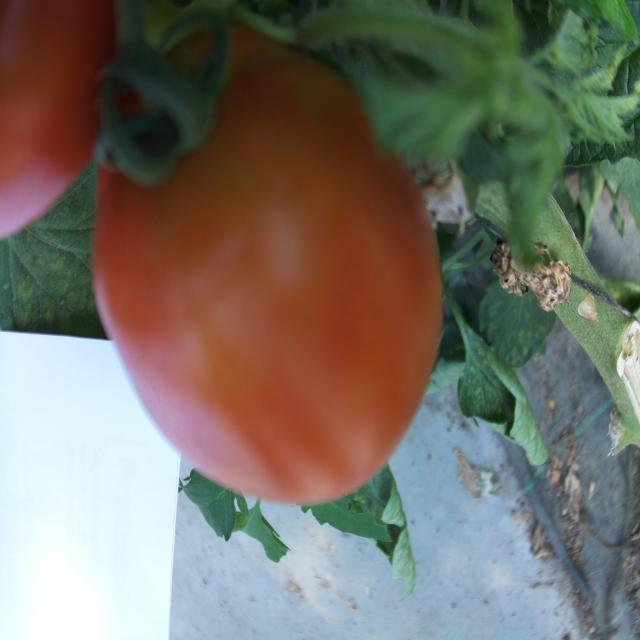sari: (110, 55, 532, 621)
